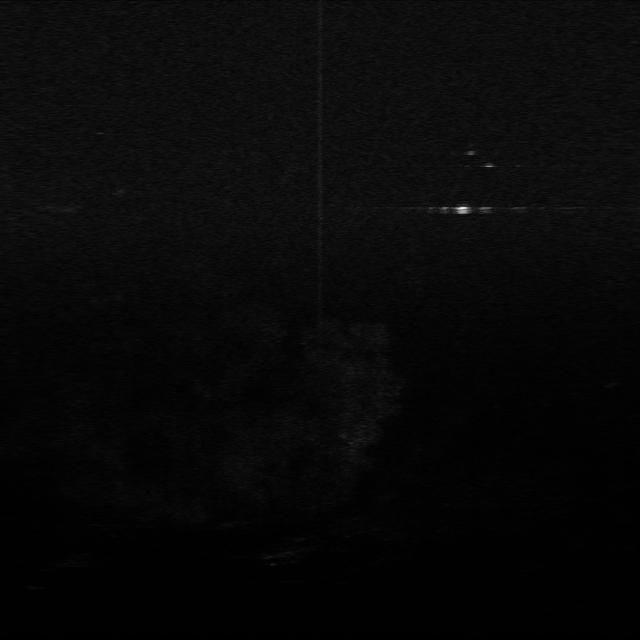rov: (449, 202, 477, 219)
